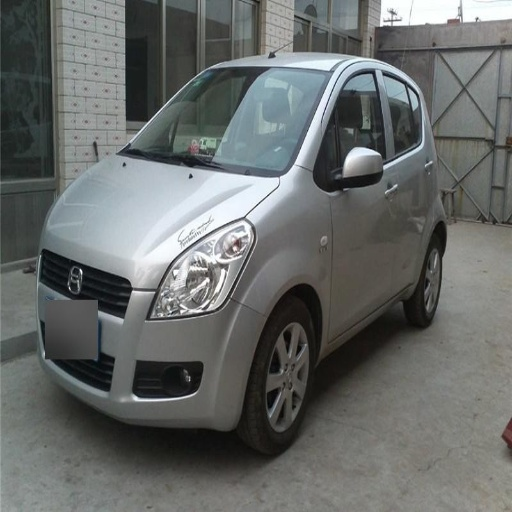front_bumper: (41, 252, 268, 425)
front_glass: (120, 70, 331, 176)
front_left_door: (315, 64, 399, 337)
